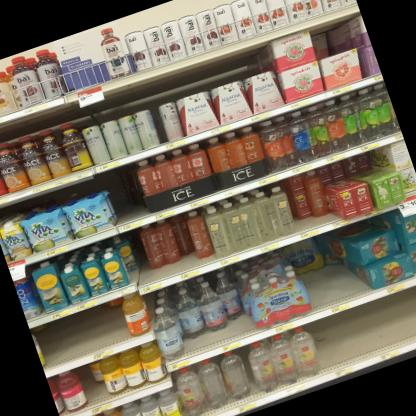empty_space: (291, 236, 360, 311), (312, 311, 368, 370), (361, 296, 411, 347), (145, 250, 204, 288), (37, 318, 78, 372), (66, 307, 110, 357), (109, 172, 150, 222), (298, 206, 342, 235), (103, 303, 131, 346), (404, 280, 416, 330)
